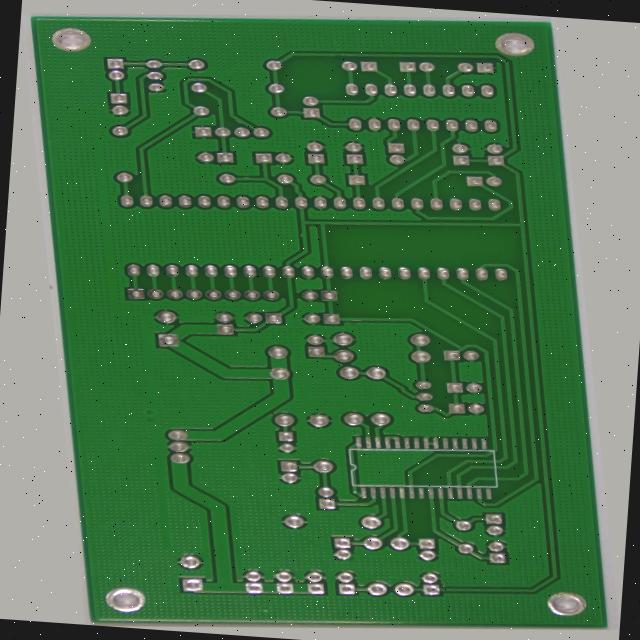spur: (250, 163, 268, 171), (254, 103, 269, 112), (308, 225, 322, 234)
